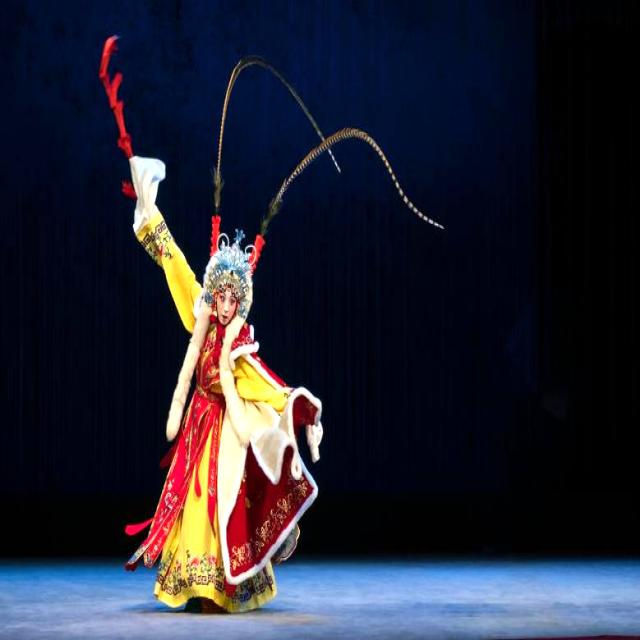Reeves-s Pheasant: (214, 56, 444, 237)
